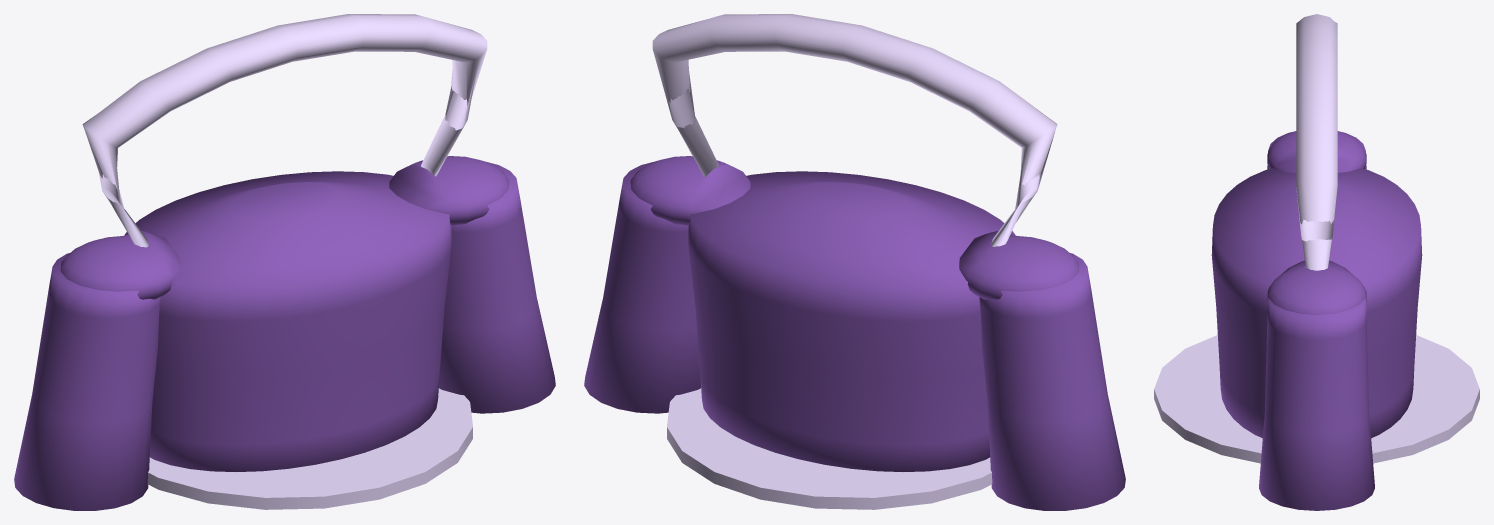
Rendered from top_ancient_3.glb.
3 views of the same model, side by side, from view 1: azimuth 30°, elevation 25°; view 2: azimuth 150°, elevation 25°; view 3: azimuth 270°, elevation 25° (orthographic). The views are drawn at different scales.
Bounding box in the file's own units: 0.7169 × 0.5464 × 0.448.
